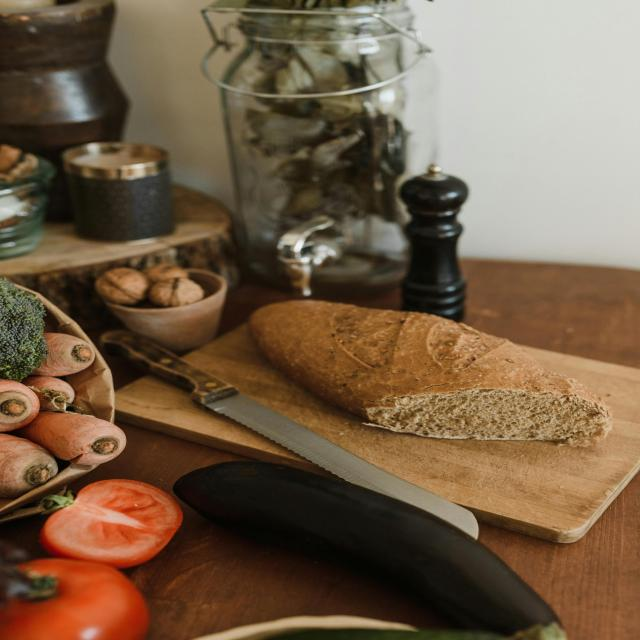knife: (100, 329, 475, 535)
